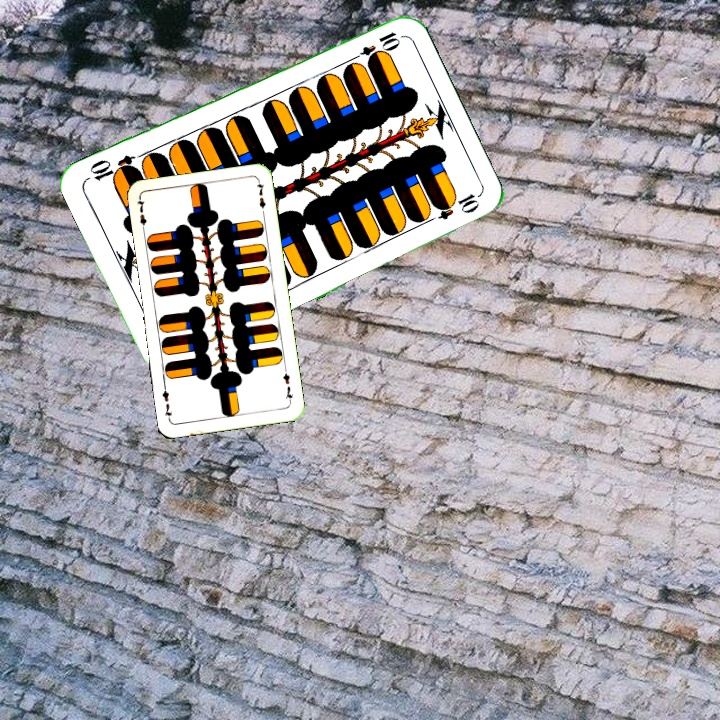E10: (346, 28, 403, 66)
E7: (279, 365, 296, 405), (133, 195, 149, 235)
